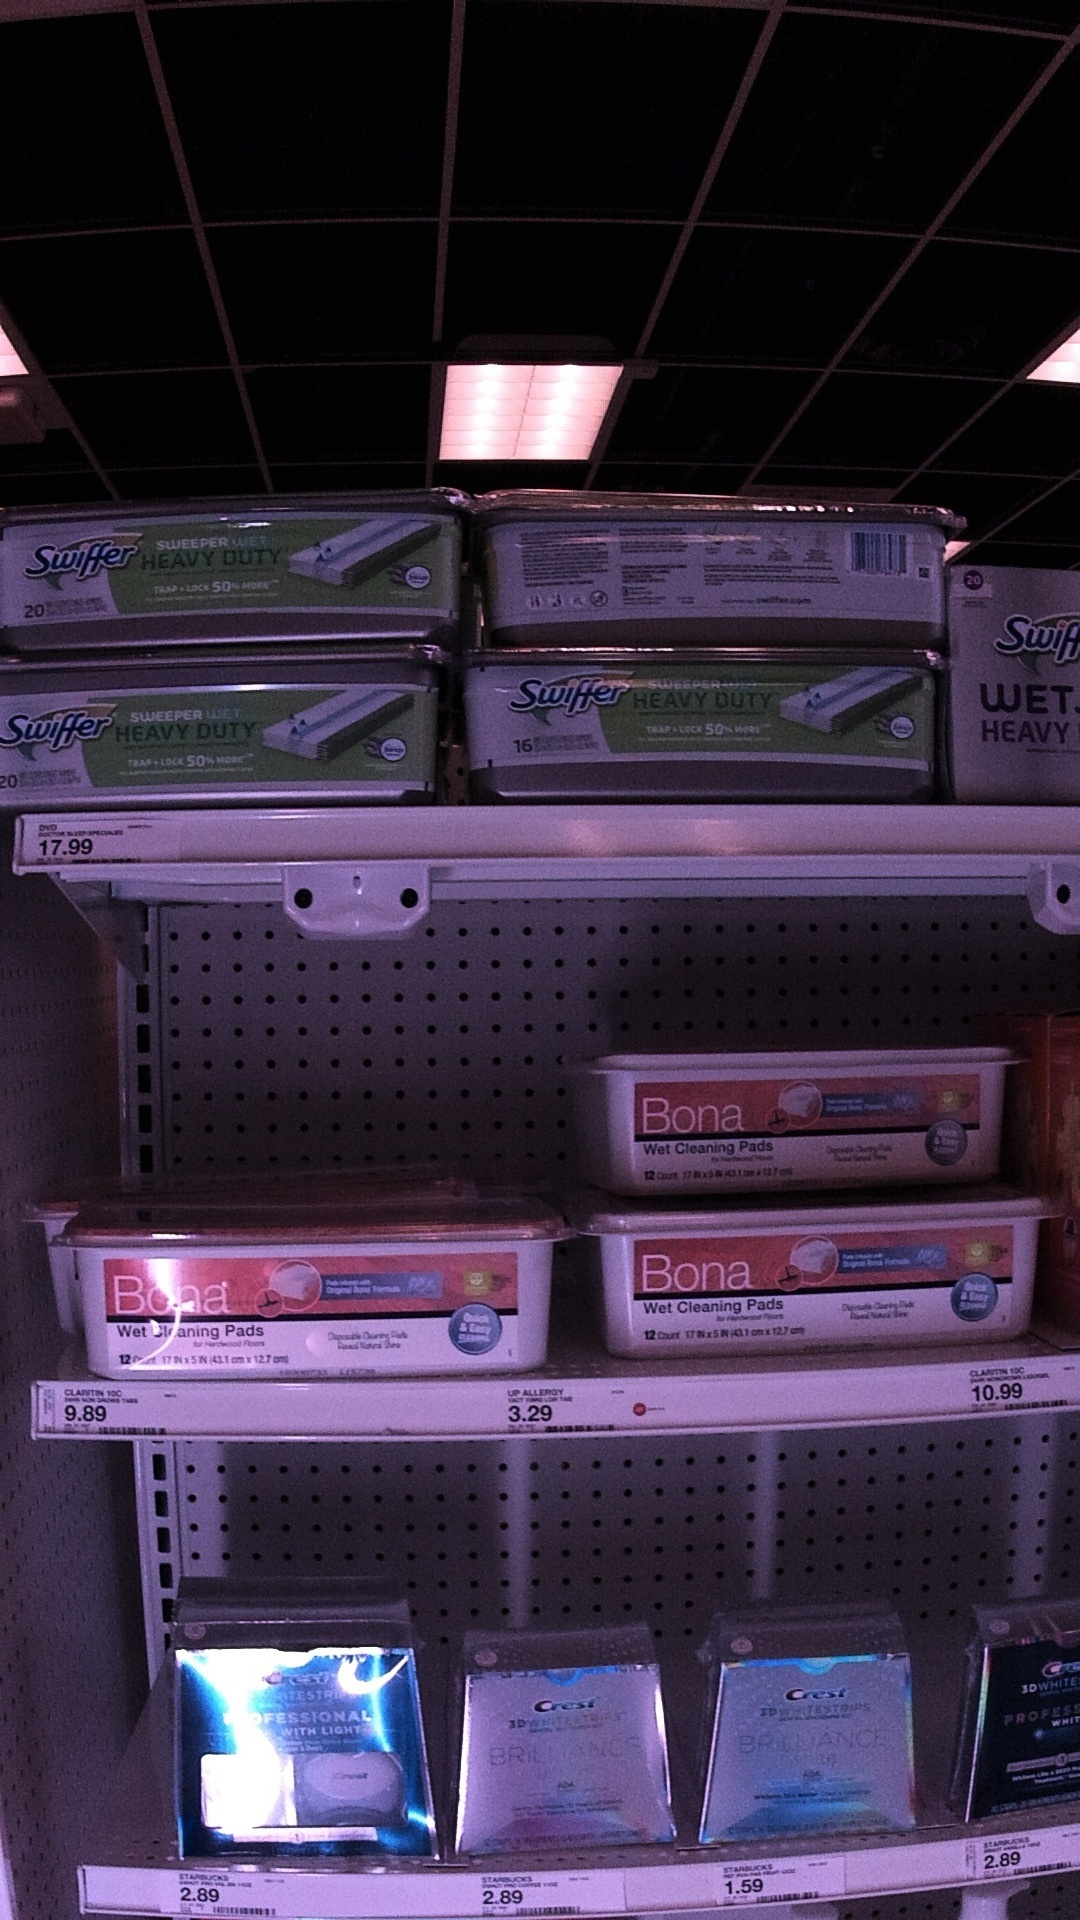ptag: (32, 1375, 179, 1440), (504, 1377, 651, 1440), (7, 811, 186, 862), (967, 1824, 1080, 1891), (949, 1366, 1077, 1422), (715, 1857, 831, 1913), (480, 1865, 597, 1920), (175, 1865, 289, 1920)
